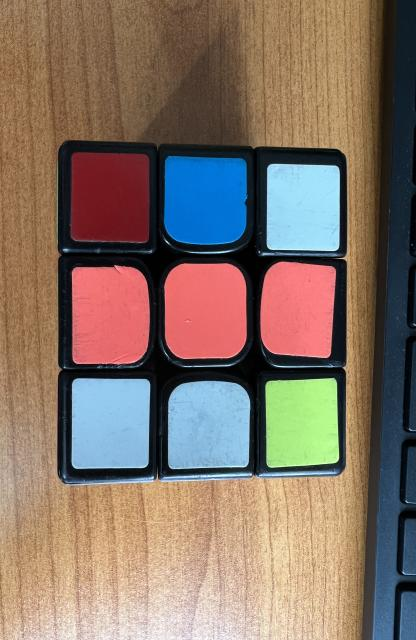Blue: (165, 156, 247, 245)
Orange: (72, 265, 150, 365), (165, 264, 247, 359), (260, 261, 336, 358)
Red: (70, 152, 150, 242)
White: (168, 381, 250, 469), (72, 379, 151, 469), (266, 164, 340, 251)
Yellow: (265, 378, 339, 468)
